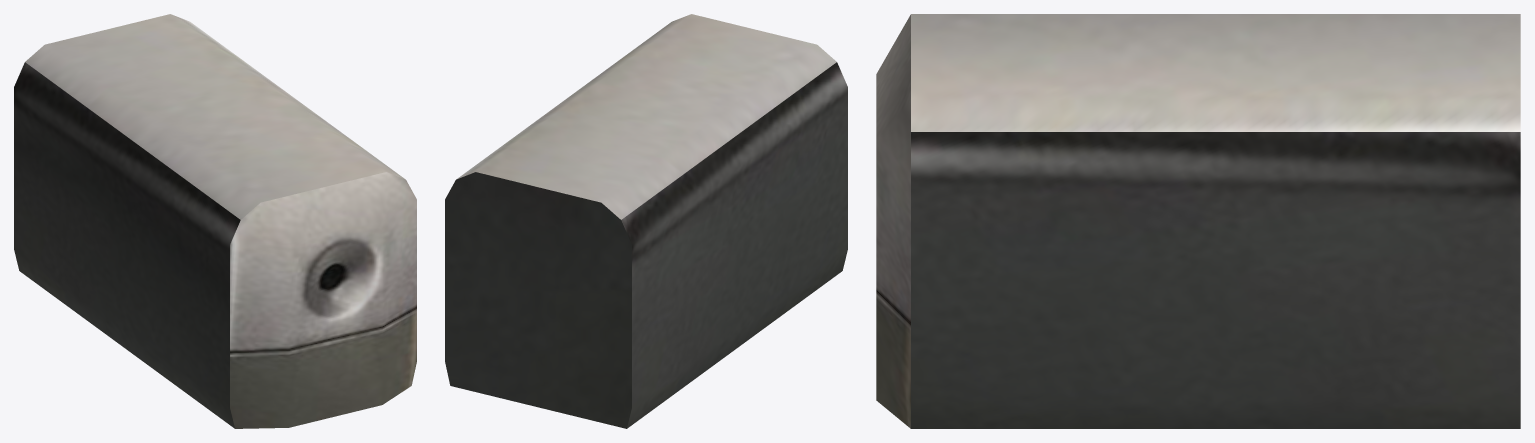
Rendered from Pencil Sharpener_lod2.fbx.
3 renders of one model, left to right at view 1: azimuth 30°, elevation 25°; view 2: azimuth 150°, elevation 25°; view 3: azimuth 270°, elevation 25°, orthographic. The views are drawn at different scales.
Parts seen in each view (by area): view 1: Pencil_Shapener; view 2: Pencil_Shapener; view 3: Pencil_Shapener.
Boxes of the visible parts, x1,y1,x2,y2 form: Pencil_Shapener: (14, 14, 416, 428); Pencil_Shapener: (445, 14, 847, 428); Pencil_Shapener: (876, 14, 1520, 428).
Bounding box in the file's own units: 2 × 2.25 × 4.23.
